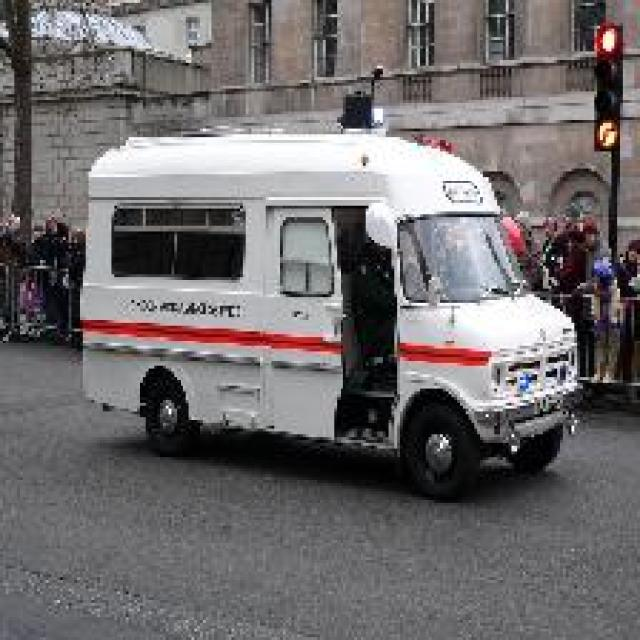Ambulance: (74, 80, 583, 500)
Traffic-light: (591, 20, 623, 151)
